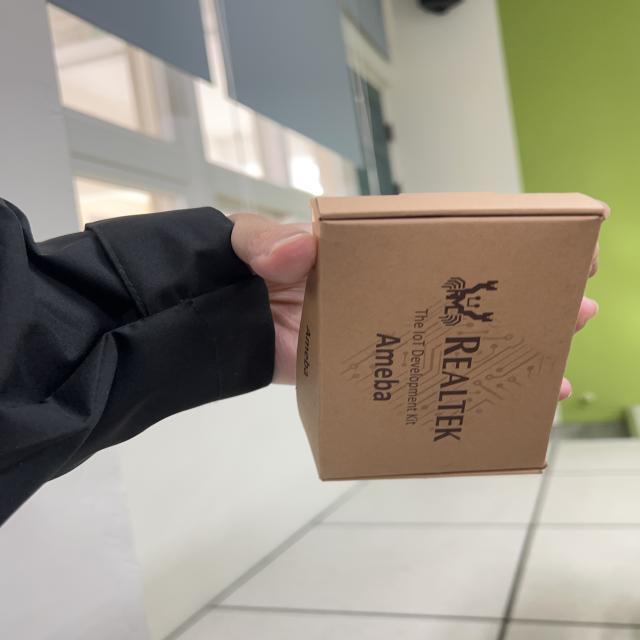box: (284, 168, 583, 494)
